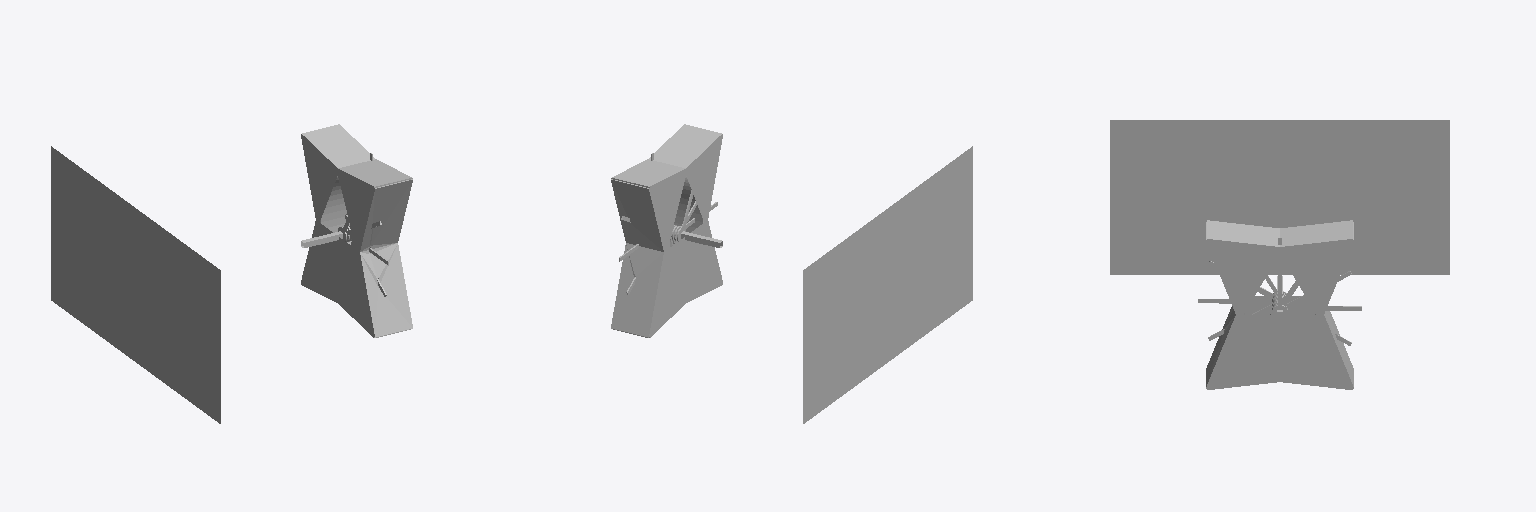
The model's file is clock.obj.
The picture shows the model from 3 angles: view 1: azimuth 30°, elevation 25°; view 2: azimuth 150°, elevation 25°; view 3: azimuth 270°, elevation 25°; orthographic projection.
Parts seen in each view (by area): view 1: limits_Plane.001, clock_body_back_Mesh.001, clock_sides_right_Mesh.008, clock_top_Mesh.004, inner_sides_Mesh.006; view 2: limits_Plane.001, clock_body_back_Mesh.001, clock_sides_left_Mesh.005, clock_top_Mesh.004, inner_sides_Mesh.006; view 3: limits_Plane.001, clock_body_front_Mesh.010, clock_top_Mesh.004, clock_sides_right_Mesh.008, clock_sides_left_Mesh.005.
Boxes of the visible parts, x1,y1,x2,y2 form: limits_Plane.001: [51, 146, 220, 423]; clock_body_back_Mesh.001: [301, 136, 373, 335]; clock_sides_right_Mesh.008: [359, 179, 412, 337]; clock_top_Mesh.004: [301, 124, 412, 187]; inner_sides_Mesh.006: [320, 176, 351, 244]; limits_Plane.001: [803, 146, 972, 423]; clock_body_back_Mesh.001: [650, 136, 722, 335]; clock_sides_left_Mesh.005: [611, 179, 664, 337]; clock_top_Mesh.004: [611, 124, 722, 187]; inner_sides_Mesh.006: [670, 176, 703, 246]; limits_Plane.001: [1110, 120, 1449, 274]; clock_body_front_Mesh.010: [1207, 240, 1352, 388]; clock_top_Mesh.004: [1207, 220, 1352, 247]; clock_sides_right_Mesh.008: [1206, 222, 1236, 388]; clock_sides_left_Mesh.005: [1323, 222, 1353, 388].
Size of the model in its own units: 6.95 by 4.27 by 8.53.